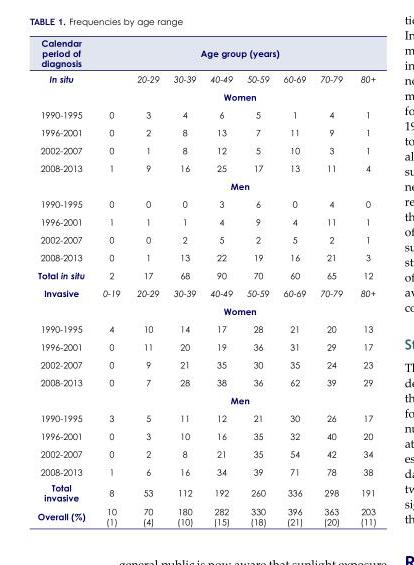table: (36, 36, 375, 526)
table column: (36, 36, 93, 526), (312, 36, 350, 526), (128, 36, 165, 526), (165, 36, 202, 526), (202, 36, 239, 526), (275, 36, 312, 526), (239, 36, 275, 526), (93, 36, 128, 526), (350, 36, 375, 526)
table column header: (36, 36, 375, 87)
table projected row header: (36, 87, 375, 105), (36, 176, 375, 194), (36, 301, 375, 319), (36, 390, 375, 408)
table row: (36, 36, 375, 70), (36, 479, 375, 503), (36, 503, 375, 526), (36, 87, 375, 105), (36, 122, 375, 140), (36, 140, 375, 158), (36, 158, 375, 176), (36, 176, 375, 194), (36, 194, 375, 212), (36, 212, 375, 230), (36, 247, 375, 265), (36, 265, 375, 283), (36, 283, 375, 301), (36, 301, 375, 319), (36, 319, 375, 337), (36, 337, 375, 355), (36, 372, 375, 390), (36, 390, 375, 408), (36, 408, 375, 426), (36, 426, 375, 444), (36, 444, 375, 462), (36, 70, 375, 87), (36, 105, 375, 122), (36, 230, 375, 247), (36, 355, 375, 372), (36, 462, 375, 479)
table spanning cell: (93, 36, 375, 70), (36, 36, 93, 87)
